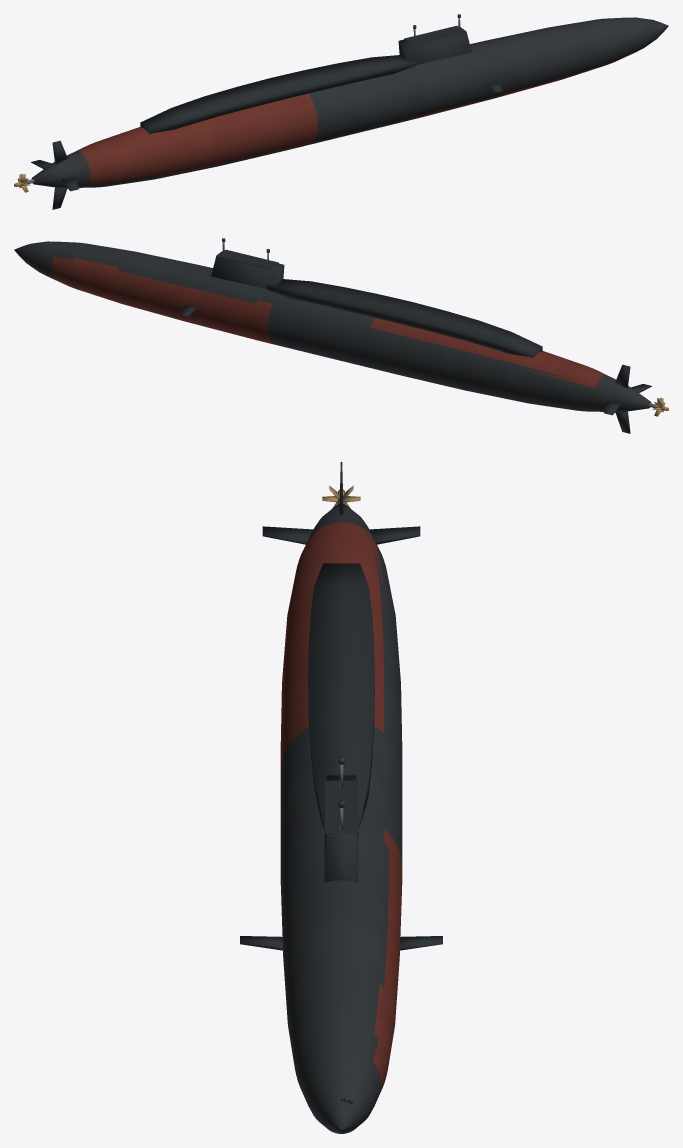
The model's file is FR_SSBN_LeRedoutable_LOD2.fbx.
3 views of the same model, one above another, from view 1: azimuth 30°, elevation 25°; view 2: azimuth 150°, elevation 25°; view 3: azimuth 270°, elevation 25° (orthographic). The views are drawn at different scales.
Parts seen in each view (by area): view 1: FR_SSBN_LeRedoutable_LOD2; view 2: FR_SSBN_LeRedoutable_LOD2; view 3: FR_SSBN_LeRedoutable_LOD2.
Boxes of the visible parts, x1=… form: FR_SSBN_LeRedoutable_LOD2: x1=14, y1=14, x2=668, y2=209; FR_SSBN_LeRedoutable_LOD2: x1=14, y1=238, x2=668, y2=433; FR_SSBN_LeRedoutable_LOD2: x1=240, y1=462, x2=442, y2=1133.
Size of the model in its own units: 132 by 17.72 by 18.41.
Materials: 6 (1 with a texture image).
